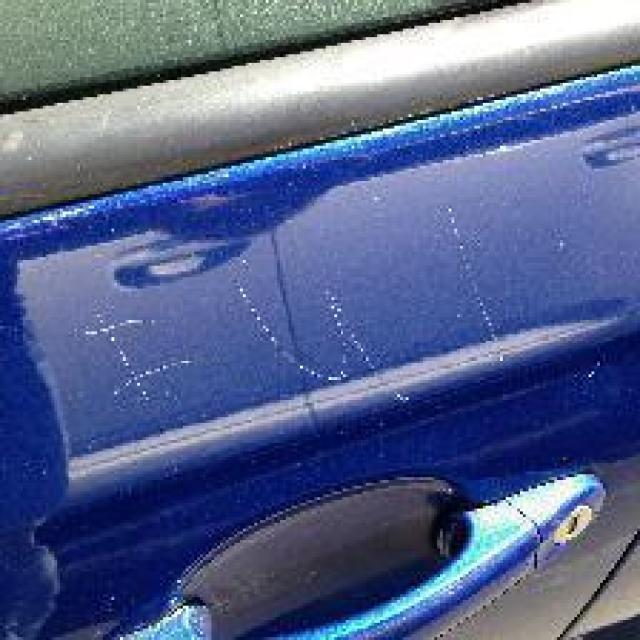damaged: (51, 205, 612, 408)
